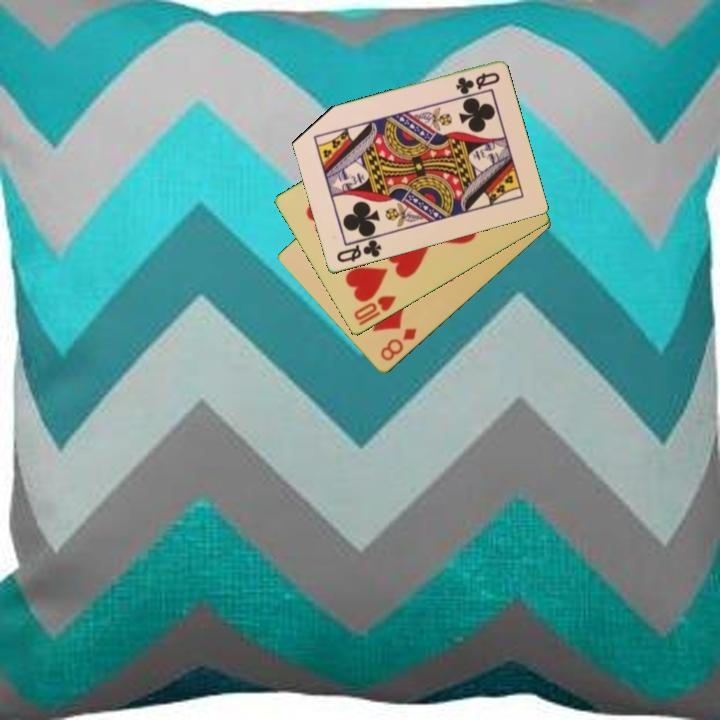10h: (350, 292, 399, 329)
8d: (377, 325, 420, 364)
Qc: (333, 233, 384, 266), (452, 69, 503, 97)
